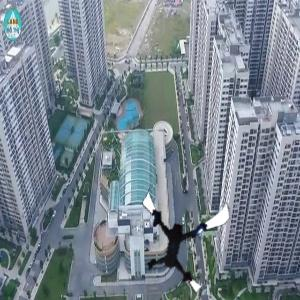drone: (127, 185, 228, 286)
